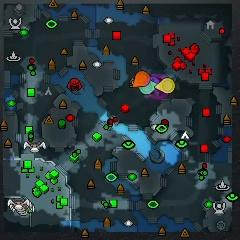p1: (151, 77, 159, 85)
p2: (140, 81, 156, 95)
p4: (155, 78, 176, 93)
p5: (133, 70, 150, 87)
